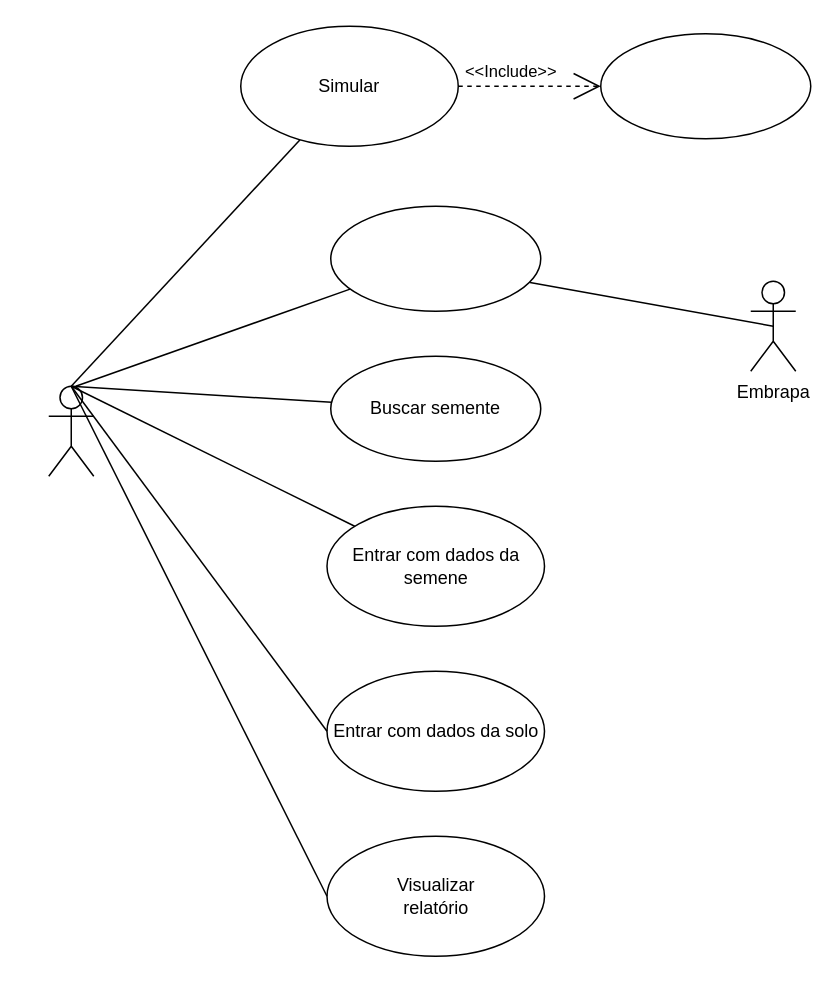
Image size: 837x983. Some labels were removed from this diagram. Each missing label, with the centre of its shape:
"Buscar solo" belongs at (435,258).
"Fazendeiro" belongs at (70,430).
"Gerar relatório" belongs at (705,85).
